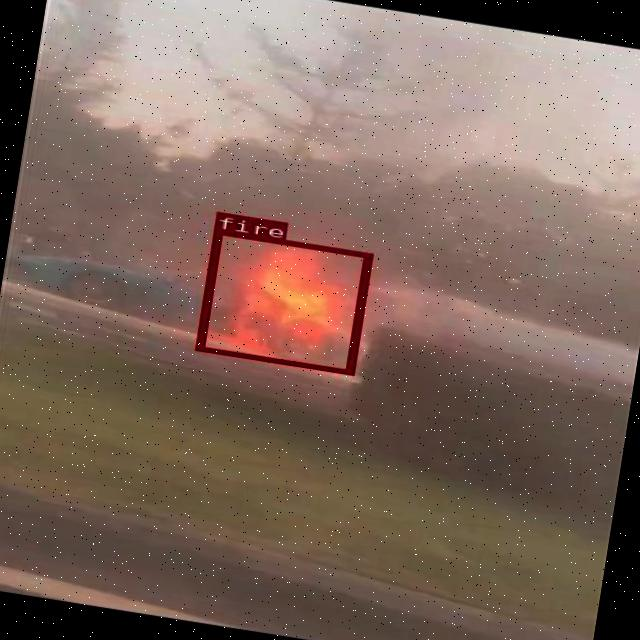fire: (193, 228, 371, 374)
